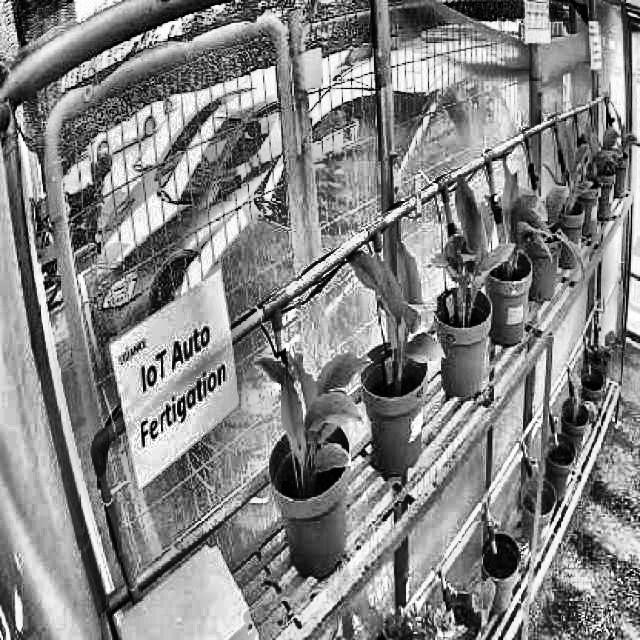plants: (254, 350, 371, 481), (348, 242, 446, 362), (433, 176, 512, 307), (500, 163, 552, 280), (560, 133, 589, 213)
